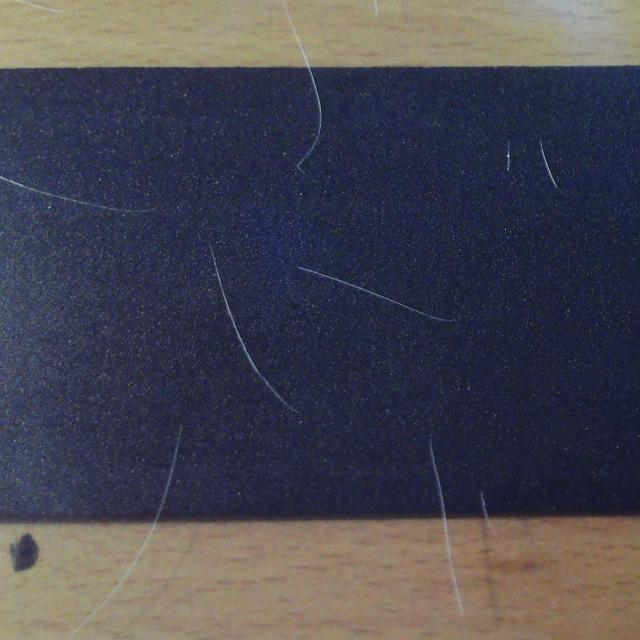defect: (207, 243, 299, 415), (297, 257, 460, 327), (0, 174, 155, 219), (297, 67, 326, 182), (153, 423, 185, 515), (422, 434, 448, 518), (536, 141, 562, 191), (503, 137, 518, 174), (477, 490, 491, 516)
